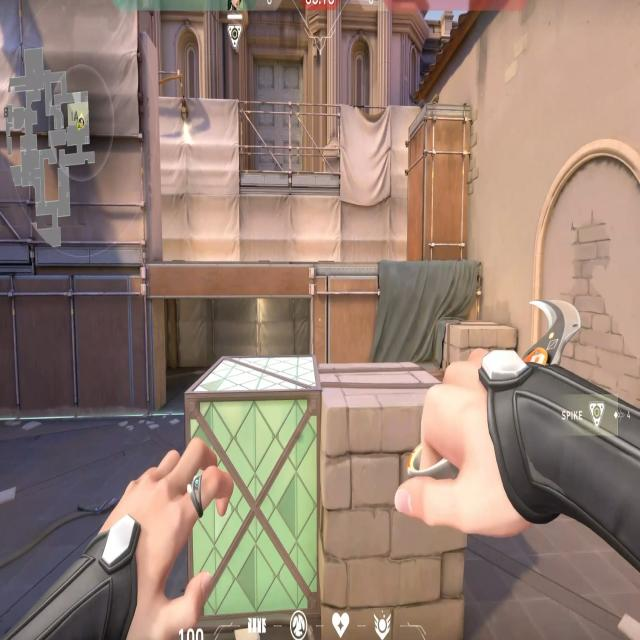A_Heaven_Box: (394, 92, 470, 262)
A_Heaven_Wall: (11, 18, 172, 255)
A_Hell: (135, 252, 327, 418)
A_Site_Box: (165, 349, 478, 640)
